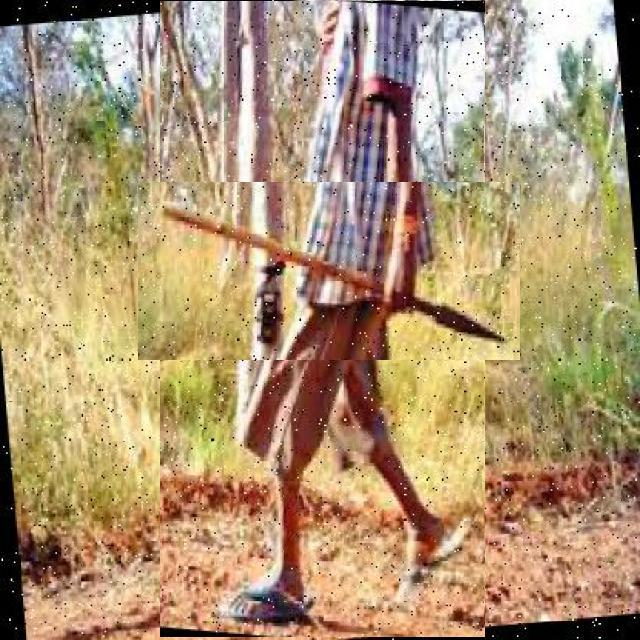p_robo: (138, 182, 520, 360)
poacher: (160, 1, 485, 637)
